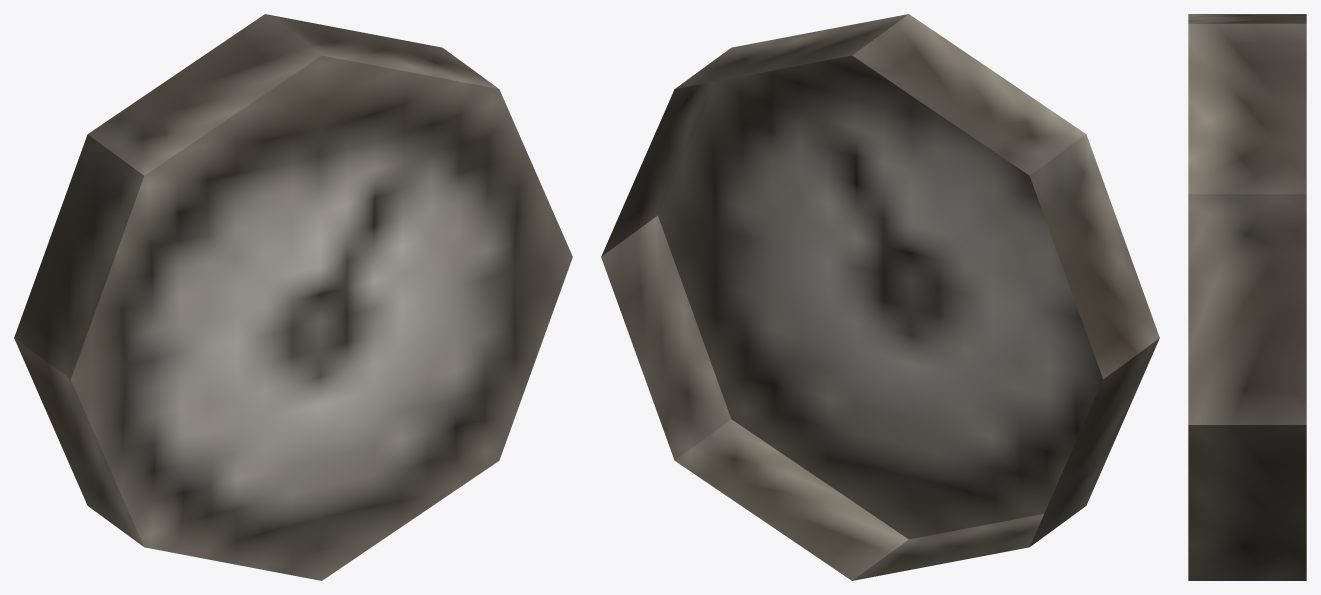
File: machine_4.FBX
3 renders of one model, left to right at view 1: azimuth 30°, elevation 25°; view 2: azimuth 150°, elevation 25°; view 3: azimuth 270°, elevation 25°, orthographic. The views are drawn at different scales.
Parts seen in each view (by area): view 1: machine_4; view 2: machine_4; view 3: machine_4.
Boxes of the visible parts, x1,y1,x2,y2 form: machine_4: (14, 14, 572, 580); machine_4: (601, 14, 1159, 580); machine_4: (1188, 14, 1306, 580).
Size of the model in its own units: 6.03 by 6.03 by 1.18.
